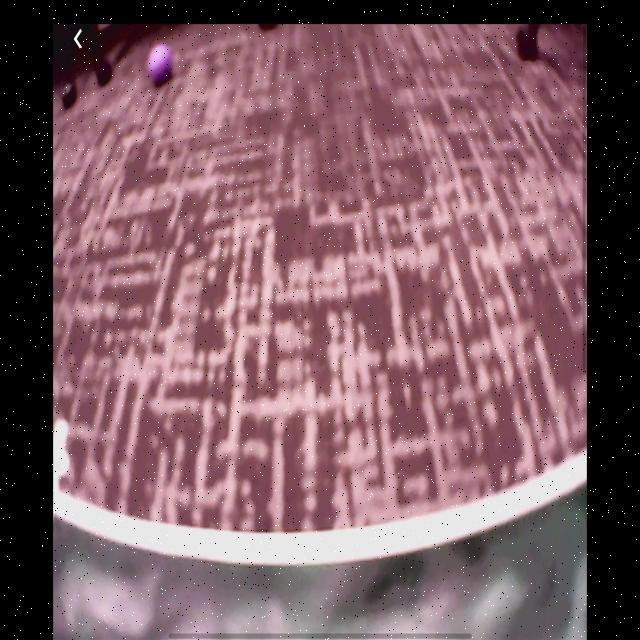ball: (149, 46, 173, 85)
